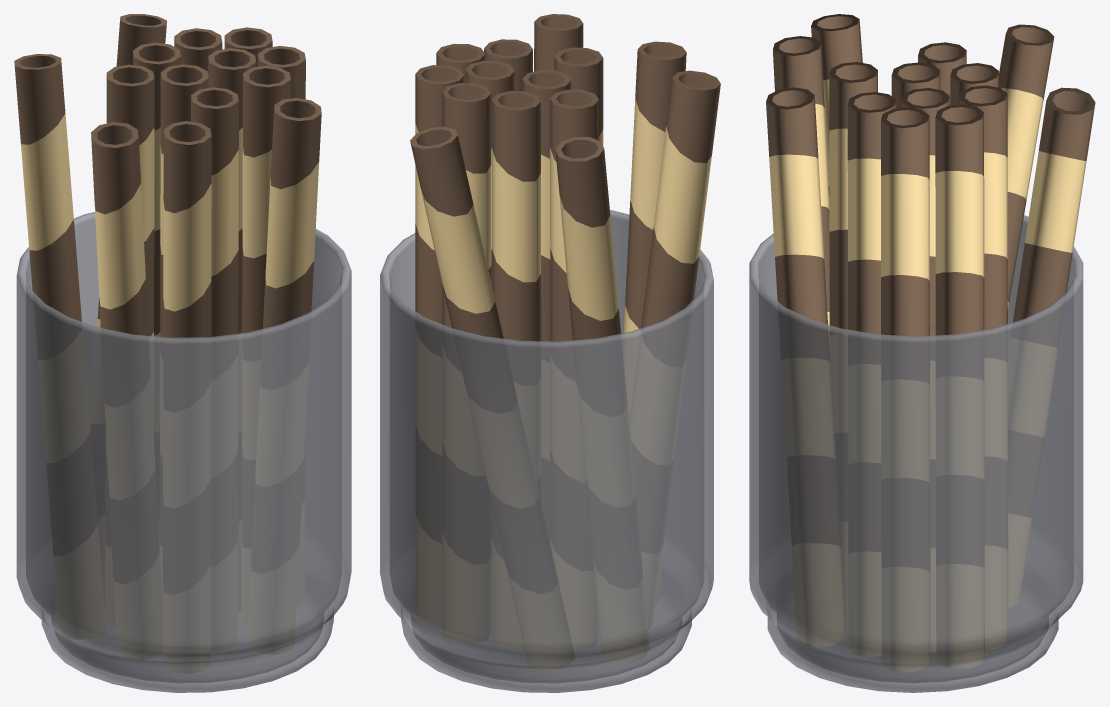
The model's file is chocolate_sticks_And_Glass_M.fbx.
3 views of the same model, side by side, from view 1: azimuth 30°, elevation 25°; view 2: azimuth 150°, elevation 25°; view 3: azimuth 270°, elevation 25° (orthographic).
Parts seen in each view (by area): view 1: chocolate_sticks_M, Galass_M; view 2: chocolate_sticks_M, Galass_M; view 3: chocolate_sticks_M, Galass_M.
Part boxes in pixels (x1,y1,x2,y2): chocolate_sticks_M: (14,14,321,673); Galass_M: (16,212,351,692); chocolate_sticks_M: (410,14,720,670); Galass_M: (380,210,713,692); chocolate_sticks_M: (766,14,1095,671); Galass_M: (749,215,1083,692).
Bounding box in the file's own units: 39.7 × 73.57 × 40.83.
Materials: 2 (1 with a texture image).
